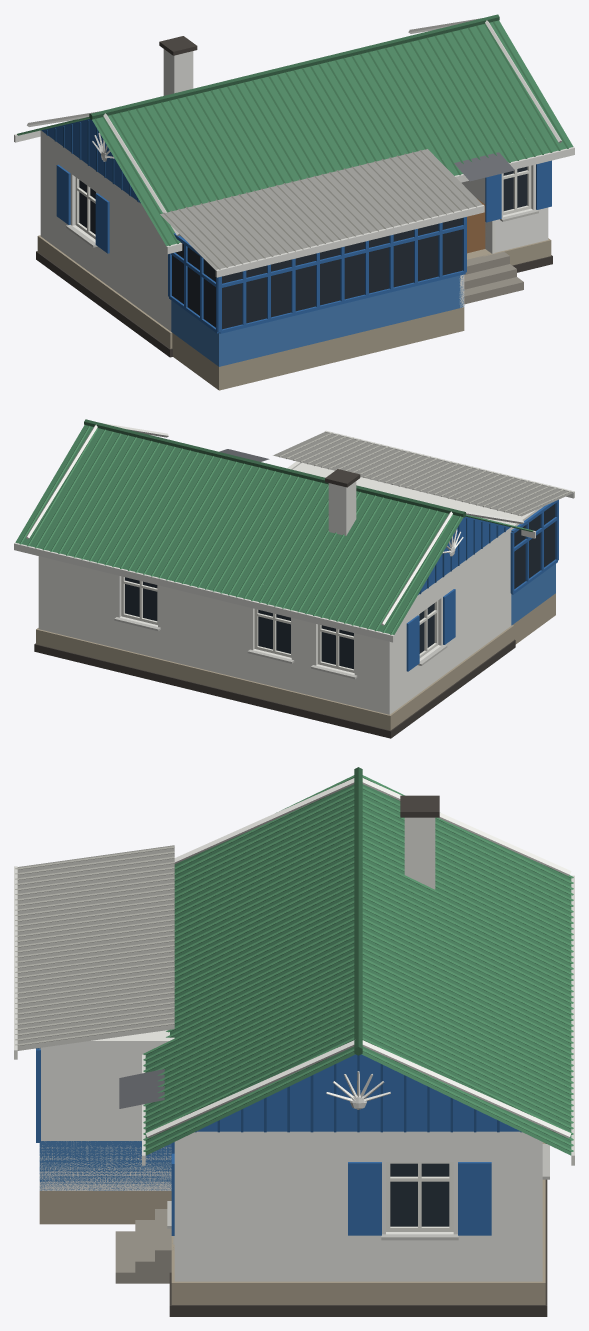
The model's file is KG_House_Veranda.obj.
The picture shows the model from 3 angles, top to bottom: view 1: azimuth 30°, elevation 25°; view 2: azimuth 150°, elevation 25°; view 3: azimuth 270°, elevation 25°; orthographic projection. The views are drawn at different scales.
Visible parts, largest first — view 1: KG_House_Veranda; view 2: KG_House_Veranda; view 3: KG_House_Veranda.
Boxes of the visible parts, box(x1,y1,x2,y2) form: KG_House_Veranda: box(14, 14, 574, 390); KG_House_Veranda: box(14, 419, 574, 738); KG_House_Veranda: box(14, 767, 574, 1316).
Size of the model in its own units: 10.8 by 5.7 by 9.15.
